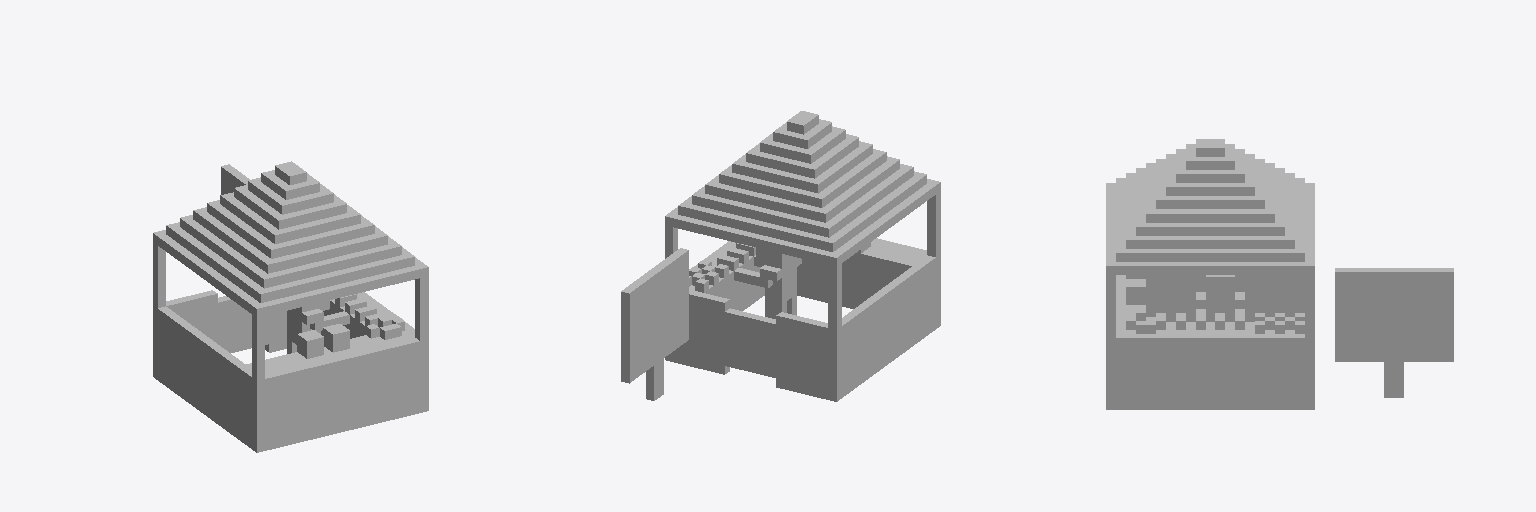
The model's file is Toko Buah.obj.
3 renders of one model, left to right at view 1: azimuth 30°, elevation 25°; view 2: azimuth 150°, elevation 25°; view 3: azimuth 270°, elevation 25°, orthographic.
Bounding box in the file's own units: 20 × 25 × 35.